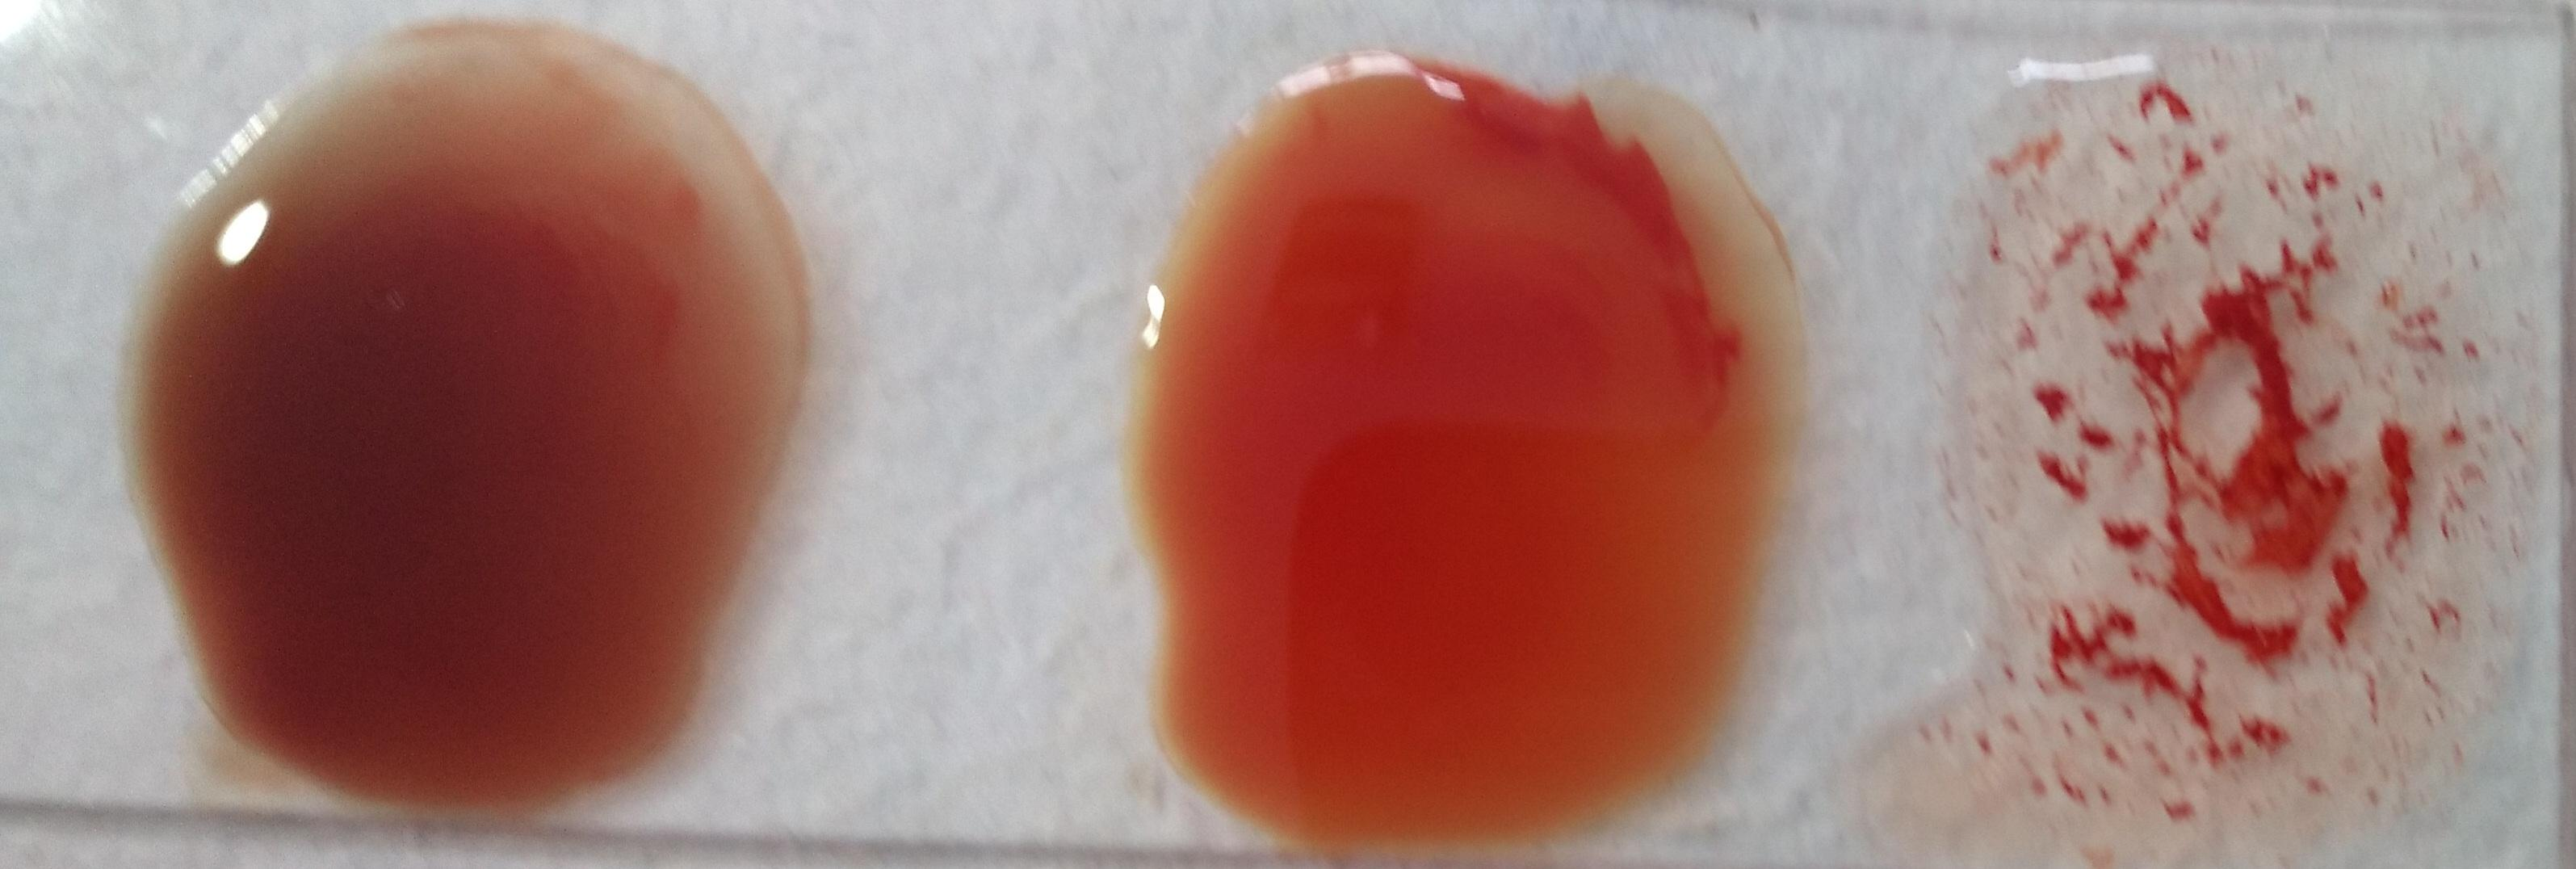D: (1957, 59, 2500, 820)
